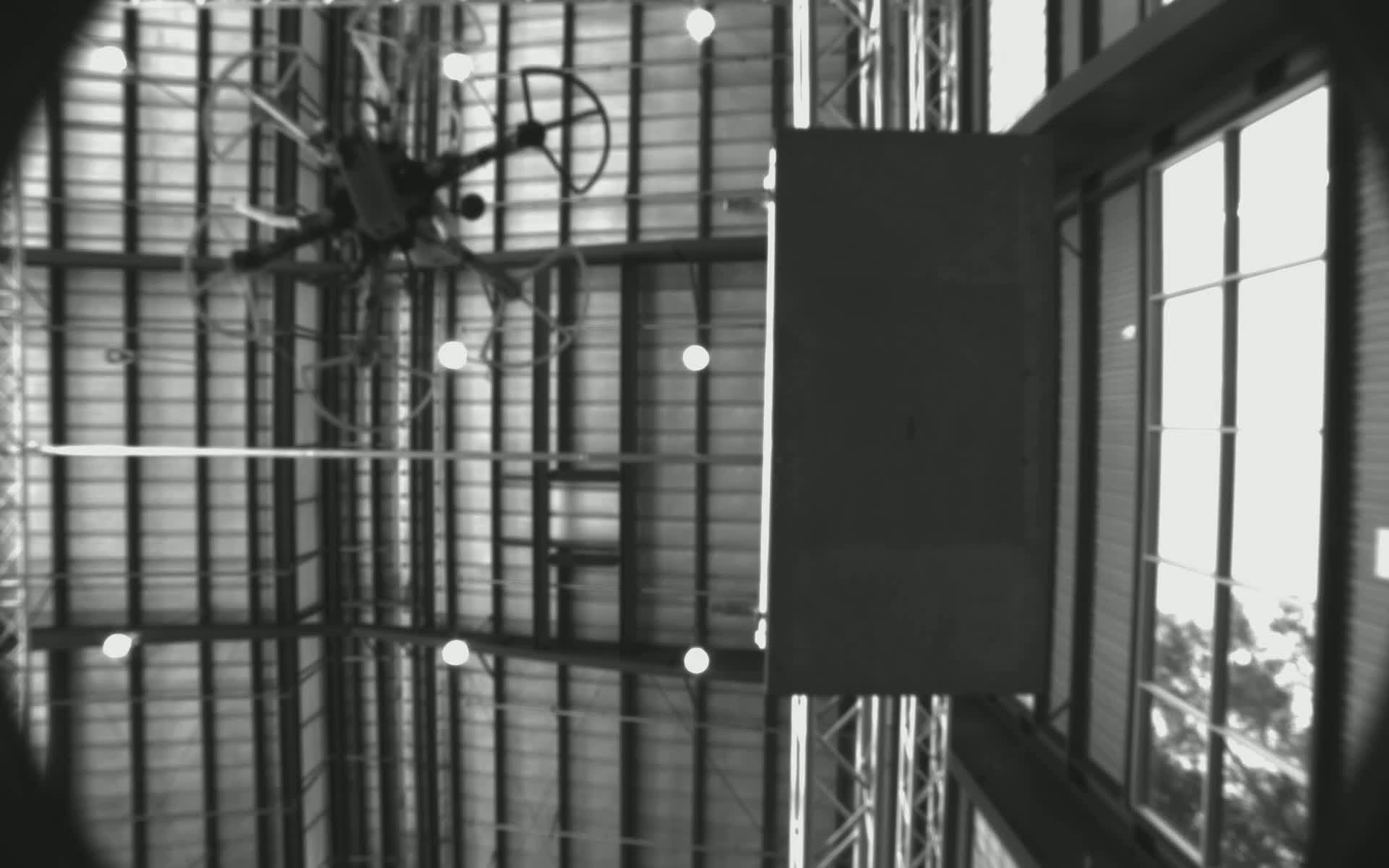drone: (177, 0, 615, 457)
